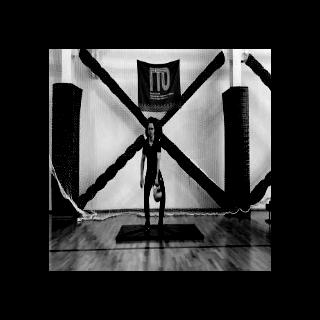kettlebell: (153, 181, 162, 203)
